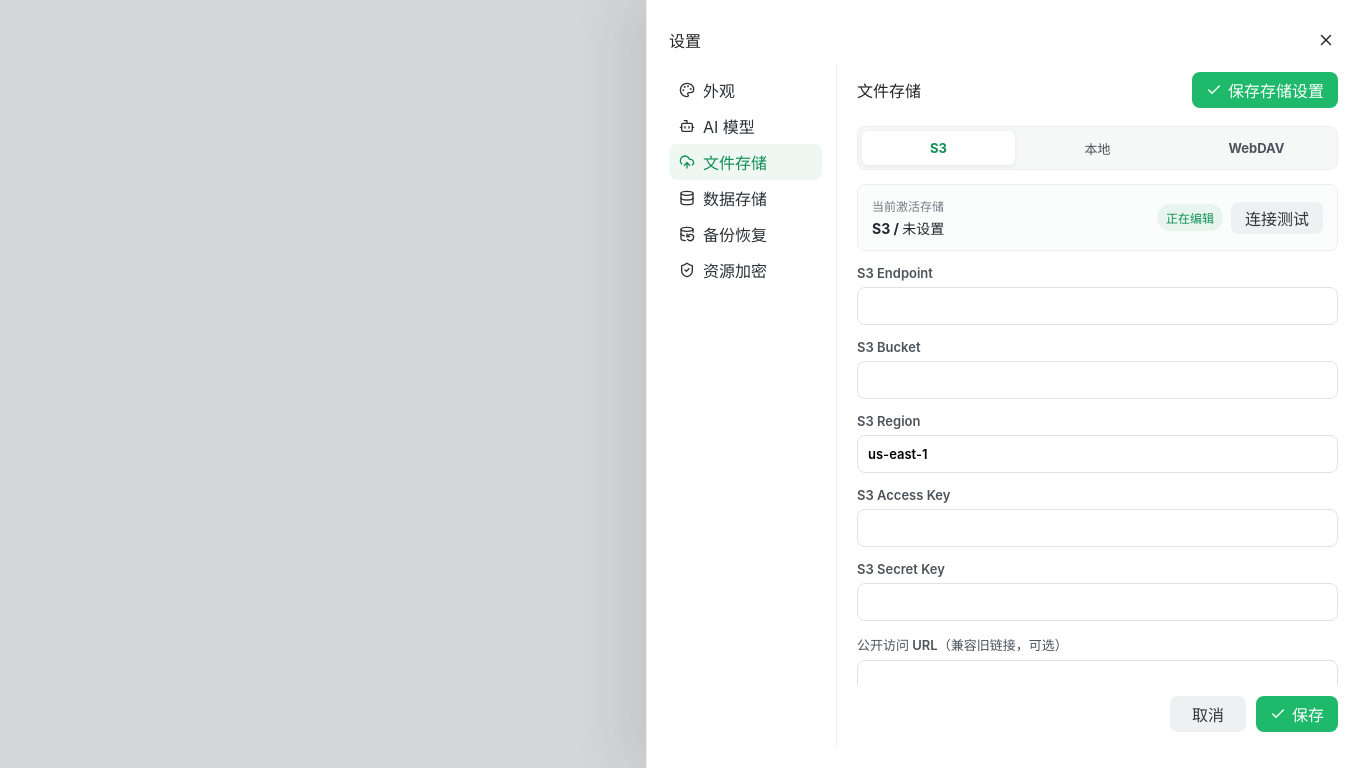
Test case: 保存前校验 OSS 必填项
Expected: the button "文件存储" is shown, [669,144,822,180]
Click the button "保存": (1297, 714) [1256,696,1338,732]
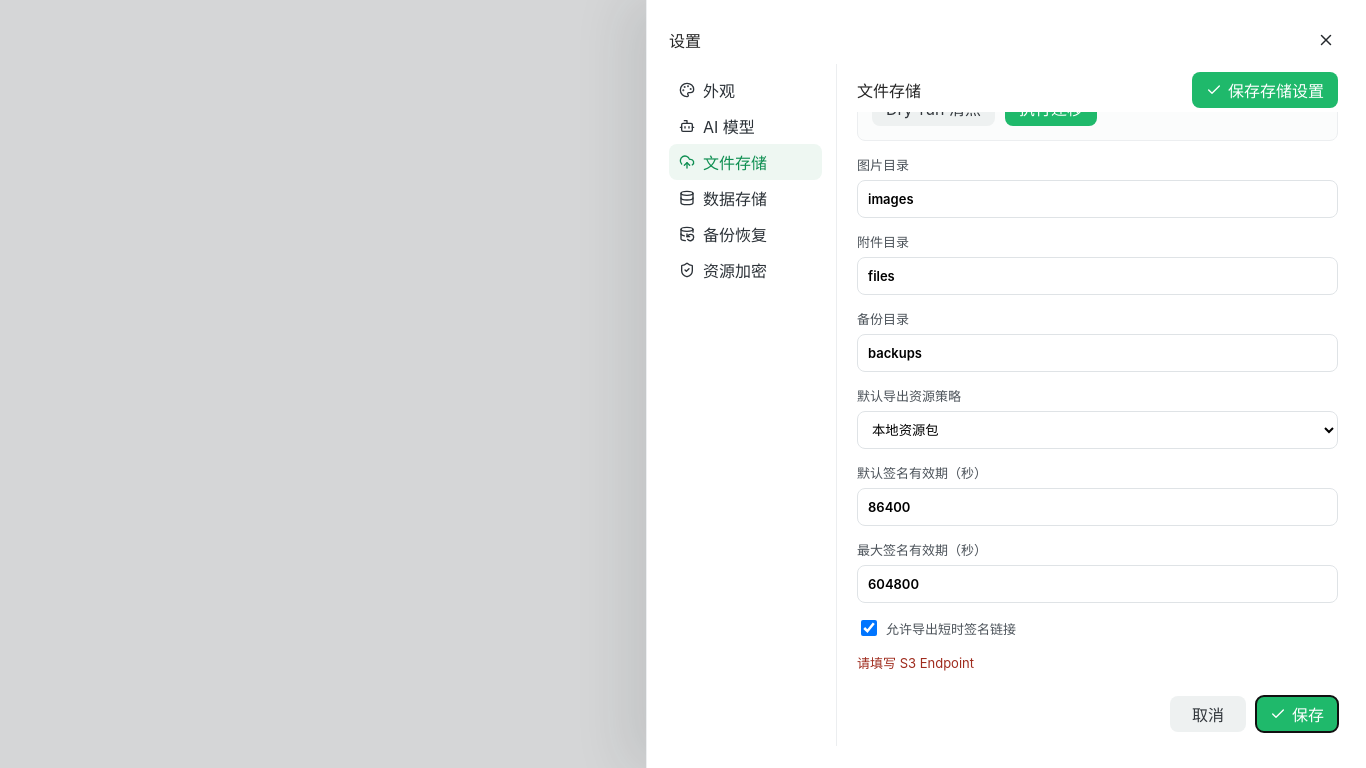
Expected: the text "请填写 S3 Endpoint" is shown, [857,655,974,671]
